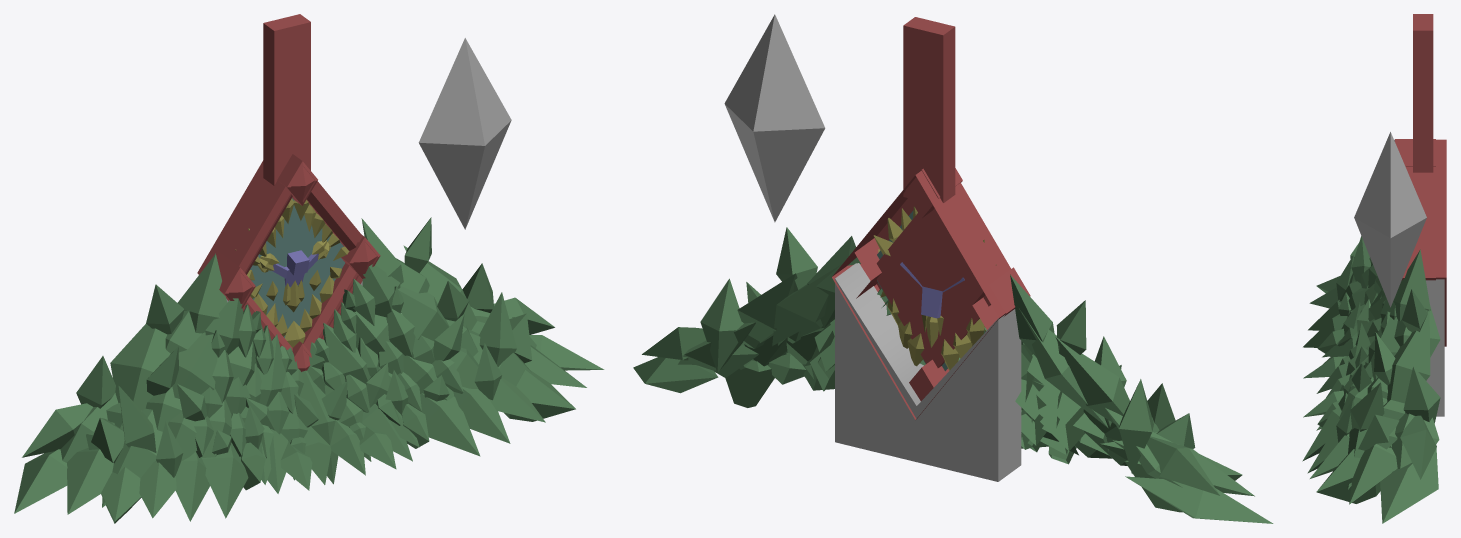
The model's file is Boss Block out Unity Test.fbx.
3 views of the same model, side by side, from view 1: azimuth 30°, elevation 25°; view 2: azimuth 150°, elevation 25°; view 3: azimuth 270°, elevation 25° (orthographic). The views are drawn at different scales.
Parts seen in each view (by area): view 1: Floating_Cry, pCube2, pCube13, Cry_BackWall, pCube35 (×2), pCube19 (×2), pCube18 (×2), pCube40 (×2), pCube39 (×2), pCube32 (×2), pCube41 (×2), pCube63 (×2) (+26 smaller); view 2: pCube33, pCube2, Floating_Cry, pCube13, pCube40 (×2), pCube35 (×2), pCube48 (×2), pCube65 (×2), pCube64 (×2), pCube34 (×2), pCube66 (×2), pCube41 (×2) (+11 smaller); view 3: Floating_Cry, pCube13, pCube2, pCube40, pCube35, pCube33, pCube39, pCube41 (×2), pCube64, pCube65, pCube34, pCube19 (×2) (+29 smaller).
Part boxes in pixels (<box>): Floating_Cry: <box>418,38,511,229</box>; pCube2: <box>197,160,362,351</box>; pCube13: <box>263,14,310,185</box>; Cry_BackWall: <box>250,198,344,337</box>; pCube35 (×2): <box>110,245,477,410</box>; pCube19 (×2): <box>202,393,480,518</box>; pCube18 (×2): <box>172,286,449,398</box>; pCube40 (×2): <box>14,335,604,513</box>; pCube39 (×2): <box>67,345,586,514</box>; pCube32 (×2): <box>175,386,510,521</box>; pCube41 (×2): <box>101,369,575,523</box>; pCube63 (×2): <box>118,292,516,452</box>; pCube33: <box>835,263,1021,481</box>; pCube2: <box>832,170,1010,419</box>; Floating_Cry: <box>724,14,825,222</box>; pCube13: <box>903,17,955,202</box>; pCube40 (×2): <box>633,357,1273,523</box>; pCube35 (×2): <box>737,273,1129,423</box>; pCube48 (×2): <box>772,264,1108,427</box>; pCube65 (×2): <box>700,278,1153,473</box>; pCube64 (×2): <box>642,327,1219,495</box>; pCube34 (×2): <box>807,236,1054,357</box>; pCube66 (×2): <box>776,227,1086,356</box>; pCube41 (×2): <box>725,360,1242,512</box>; Floating_Cry: <box>1354,132,1426,307</box>; pCube13: <box>1413,14,1433,172</box>; pCube2: <box>1405,139,1446,346</box>; pCube40: <box>1380,448,1438,523</box>; pCube35: <box>1387,309,1430,403</box>; pCube33: <box>1426,279,1444,416</box>; pCube39: <box>1349,444,1397,504</box>; pCube41 (×2): <box>1316,276,1380,503</box>; pCube64: <box>1400,415,1436,479</box>; pCube65: <box>1403,366,1440,423</box>; pCube34: <box>1393,249,1430,320</box>; pCube19 (×2): <box>1302,314,1347,461</box>.
Bounding box in the file's own units: 1601 × 1109 × 370.
